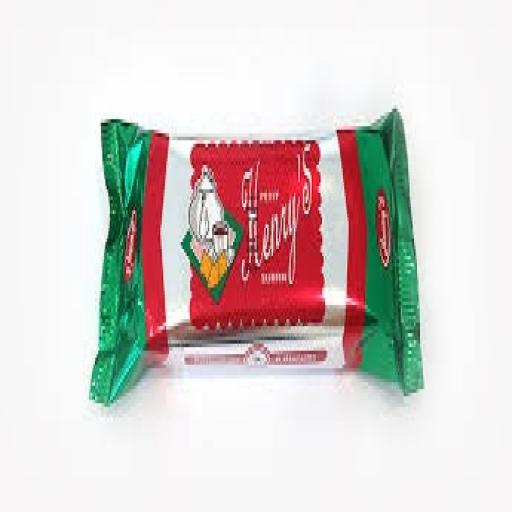golden: (67, 119, 449, 421)
